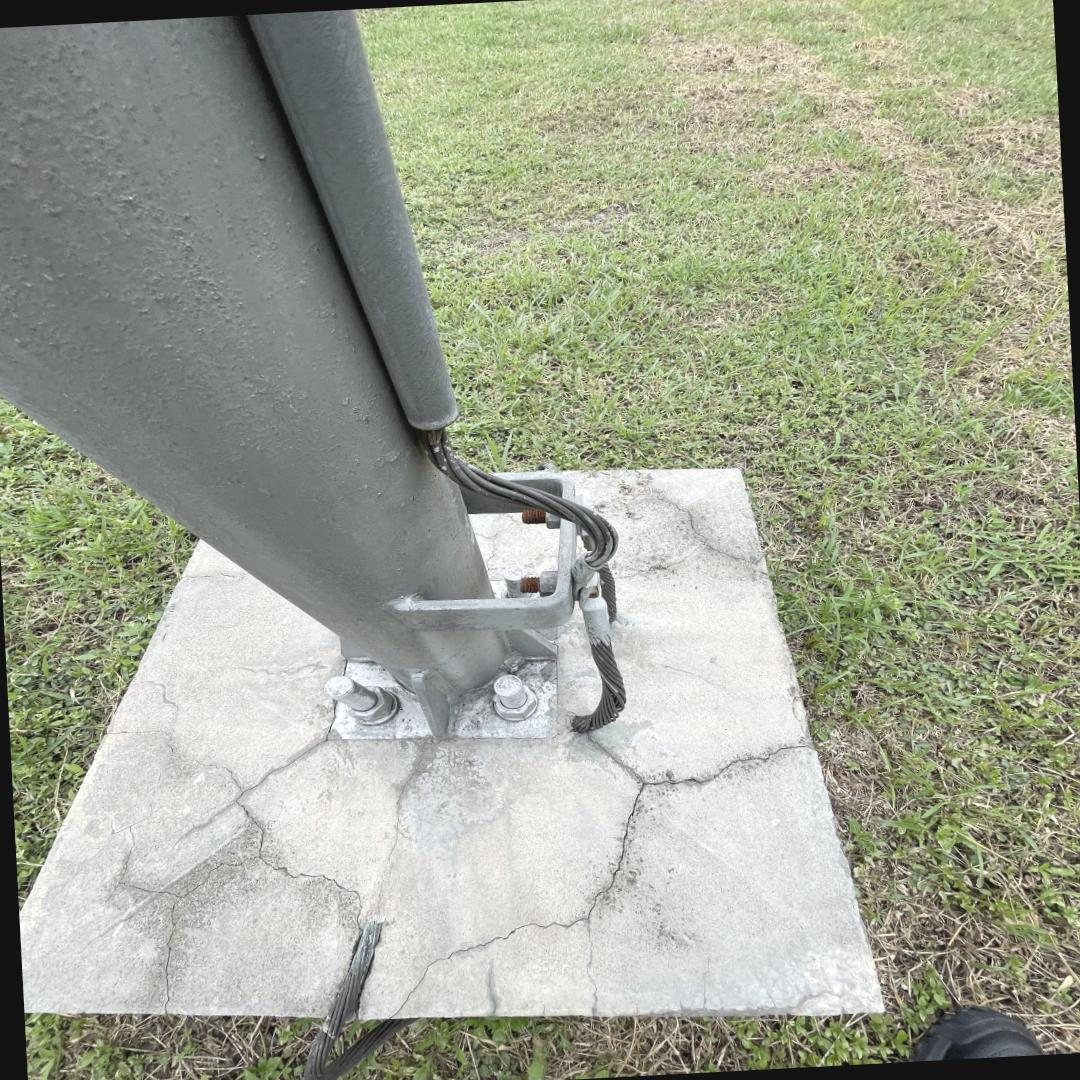Metal: (0, 9, 572, 735)
Metal corroido: (522, 509, 546, 523), (520, 577, 539, 592)
